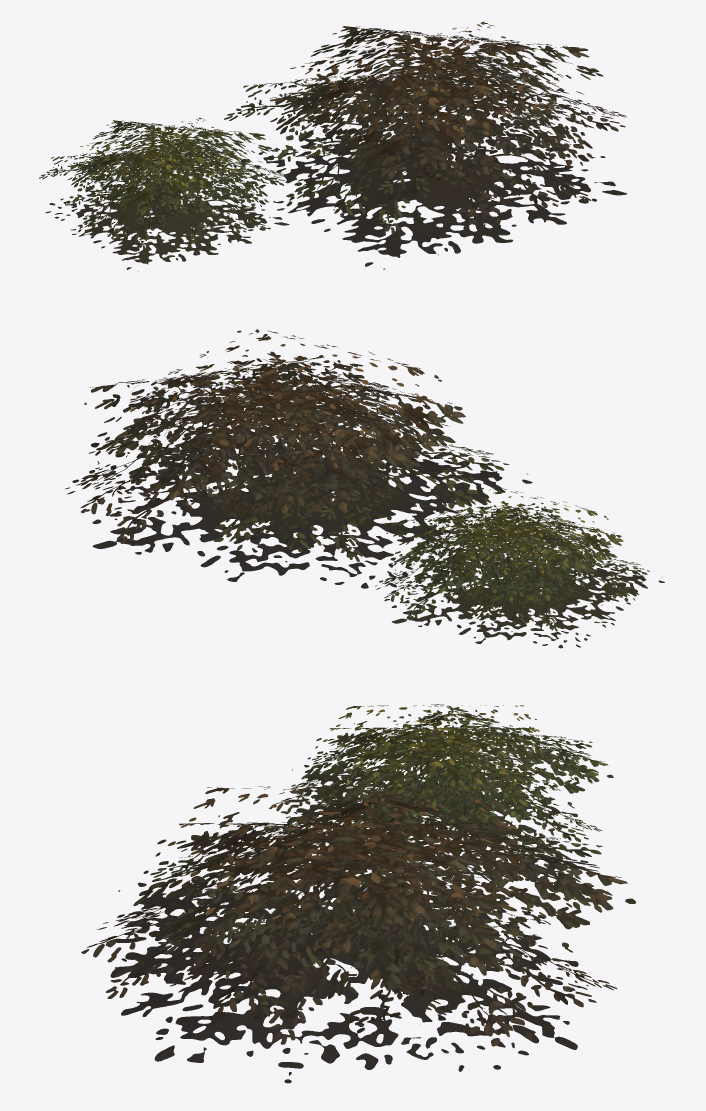
The model's file is plants_bushes10.fbx.
3 views of the same model, one above another, from view 1: azimuth 30°, elevation 25°; view 2: azimuth 150°, elevation 25°; view 3: azimuth 270°, elevation 25° (orthographic). The views are drawn at different scales.
Parts seen in each view (by area): view 1: obj1.048; view 2: obj1.048; view 3: obj1.048.
Part boxes in pixels (x1=…): obj1.048: x1=39, y1=21, x2=626, y2=271; obj1.048: x1=65, y1=329, x2=664, y2=648; obj1.048: x1=81, y1=704, x2=635, y2=1083.
Bounding box in the file's own units: 6.38 × 1.35 × 4.83.
